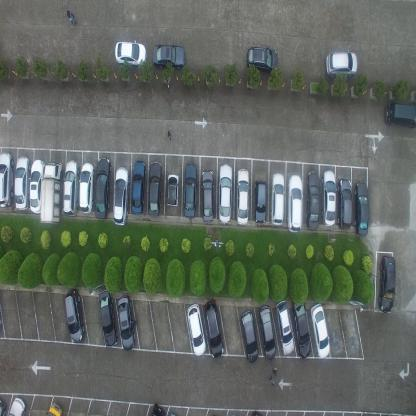car: (39, 160, 62, 224), (97, 288, 119, 349), (292, 298, 312, 360), (204, 298, 224, 358), (310, 302, 330, 360), (186, 302, 206, 358), (64, 287, 84, 343), (116, 294, 135, 352), (378, 253, 396, 313), (94, 157, 111, 220), (239, 308, 258, 363), (112, 167, 130, 225), (276, 299, 294, 356), (246, 44, 279, 75), (62, 158, 79, 218), (152, 42, 187, 70), (326, 48, 358, 78), (114, 37, 147, 66), (14, 155, 31, 211), (259, 305, 276, 361), (287, 173, 303, 231), (384, 101, 416, 130), (29, 157, 45, 213), (321, 168, 336, 227), (218, 162, 232, 225), (148, 160, 163, 218), (306, 170, 320, 232), (131, 158, 146, 214), (270, 171, 285, 227), (354, 181, 369, 237), (79, 161, 95, 213), (0, 151, 14, 208), (337, 178, 352, 229), (236, 168, 249, 226), (200, 169, 214, 222), (184, 163, 197, 219), (252, 178, 267, 225), (166, 172, 179, 208), (6, 394, 26, 416), (45, 401, 64, 415), (149, 402, 166, 415)
